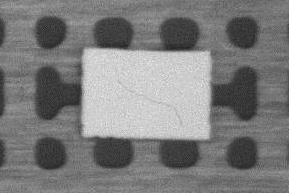DIE_CRACK: (116, 79, 182, 126)
